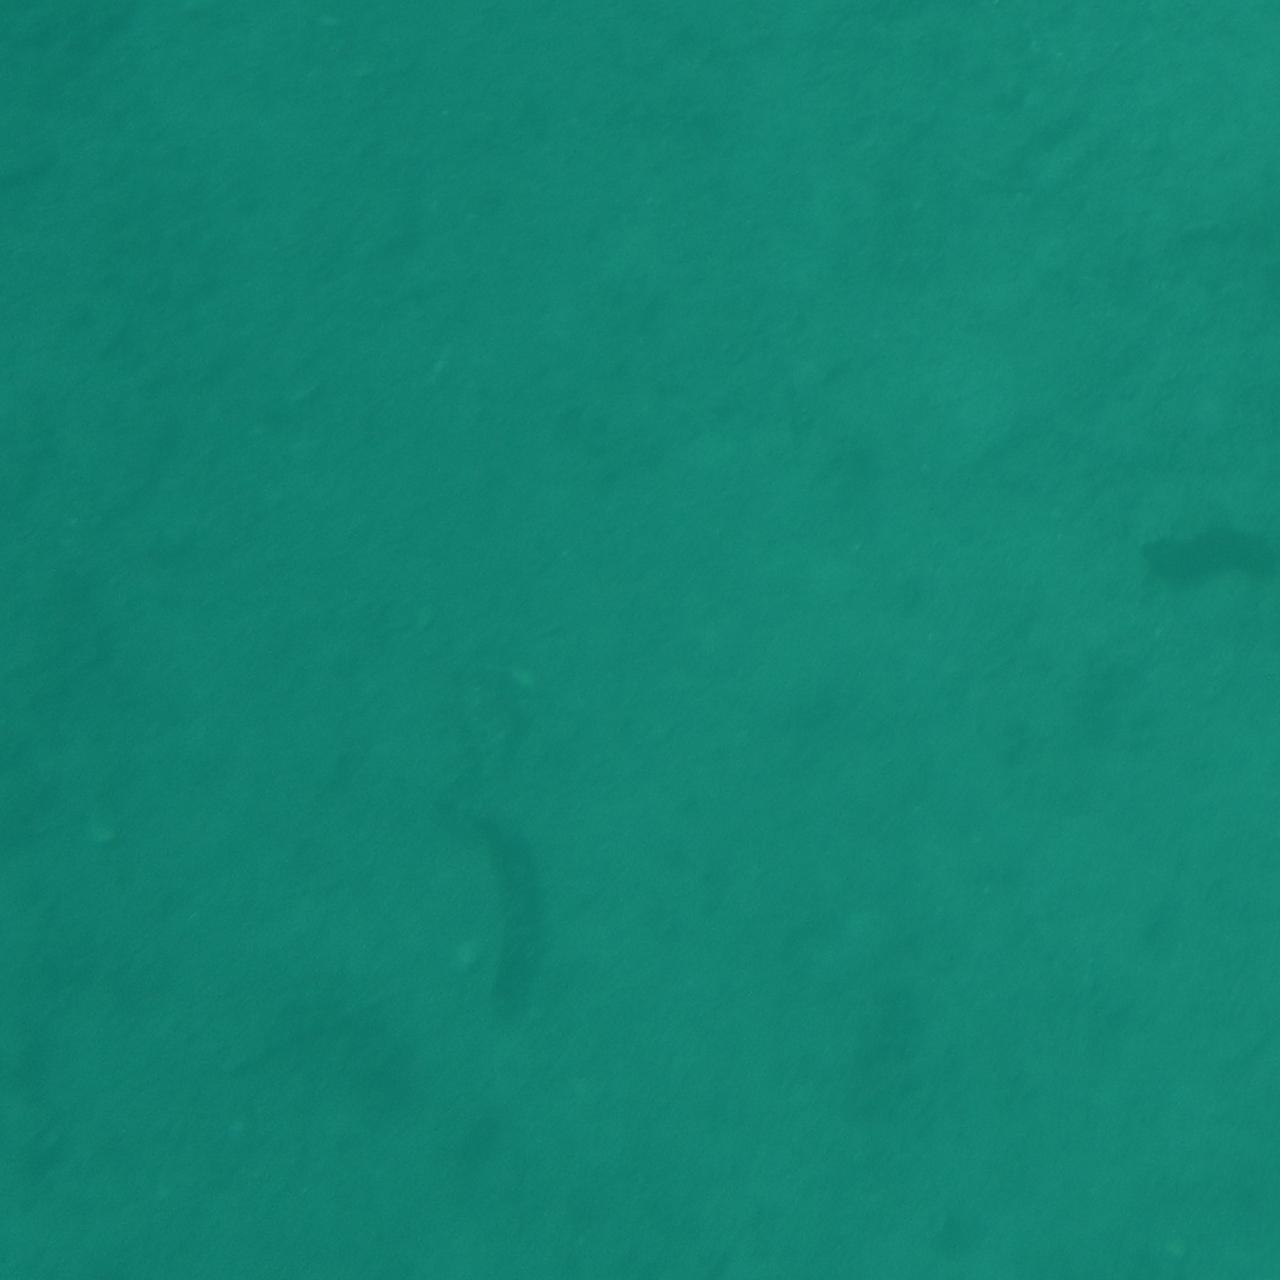Holothuria tubulosa: (437, 801, 579, 1051), (1139, 491, 1280, 663), (0, 806, 103, 1033), (1189, 260, 1280, 448)
